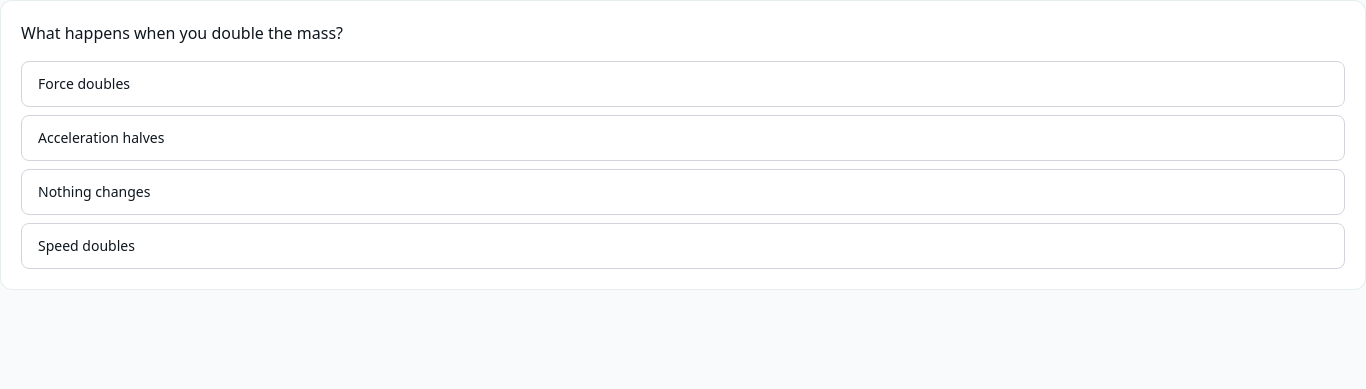
Scenario: ChallengeCard › should show hint on wrong answer with np-gold styling
The width and height of the screenshot is (1366, 389).
Click the button "Force doubles": coordinates (84, 84) top-left (21, 61), bottom-right (1345, 107)
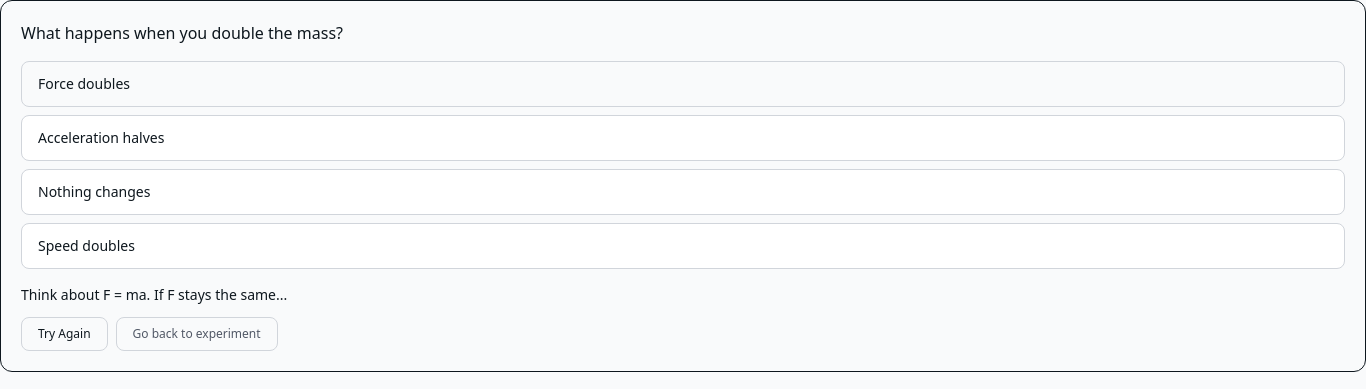
Now the text "Think about F = ma" is shown, box top-left (21, 285), bottom-right (287, 304)
